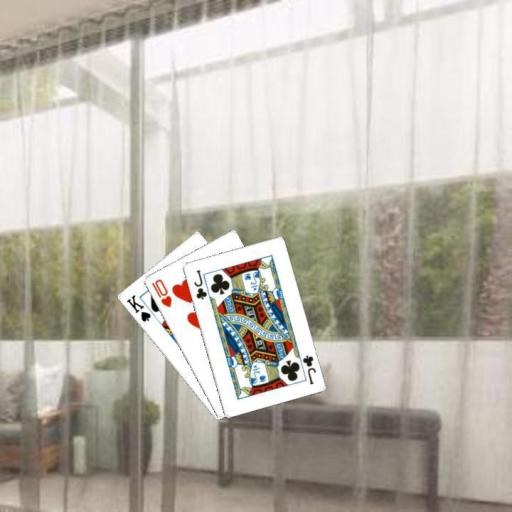10H: (148, 276, 173, 309)
JC: (190, 267, 208, 301), (299, 352, 317, 385)
KS: (123, 292, 152, 324)
